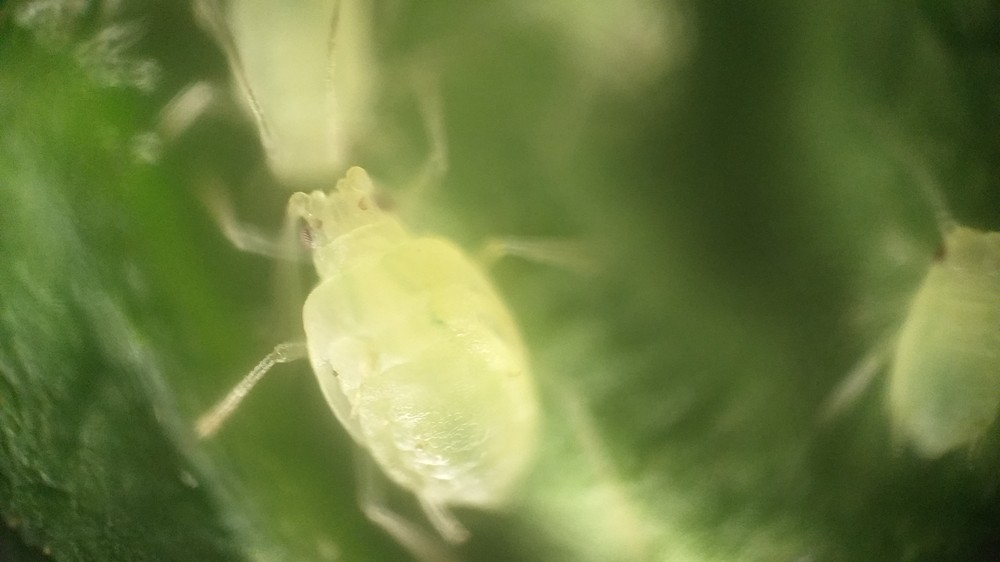Pulgon: (183, 107, 626, 552), (811, 121, 1000, 492)
